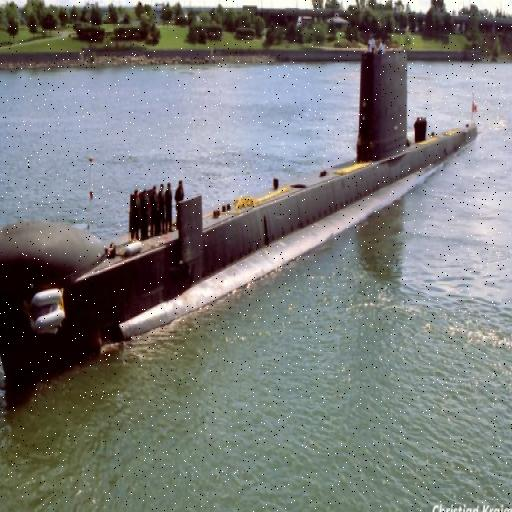submarine: (4, 29, 490, 409)
